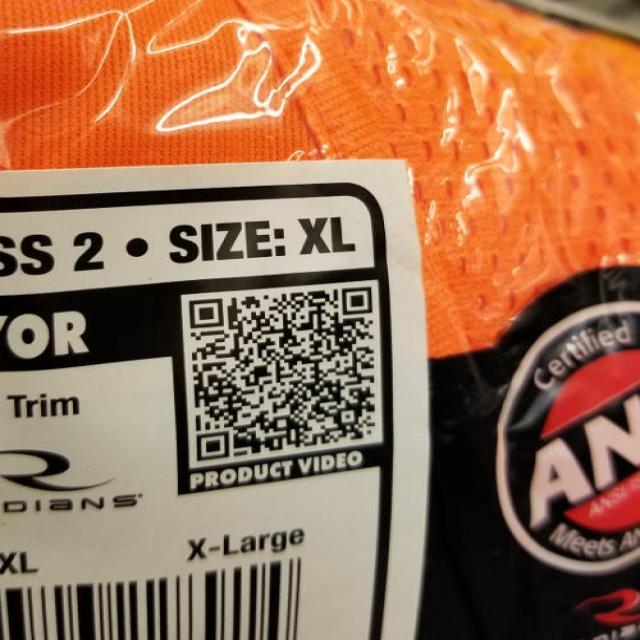QR_CODE: (178, 266, 390, 472)
